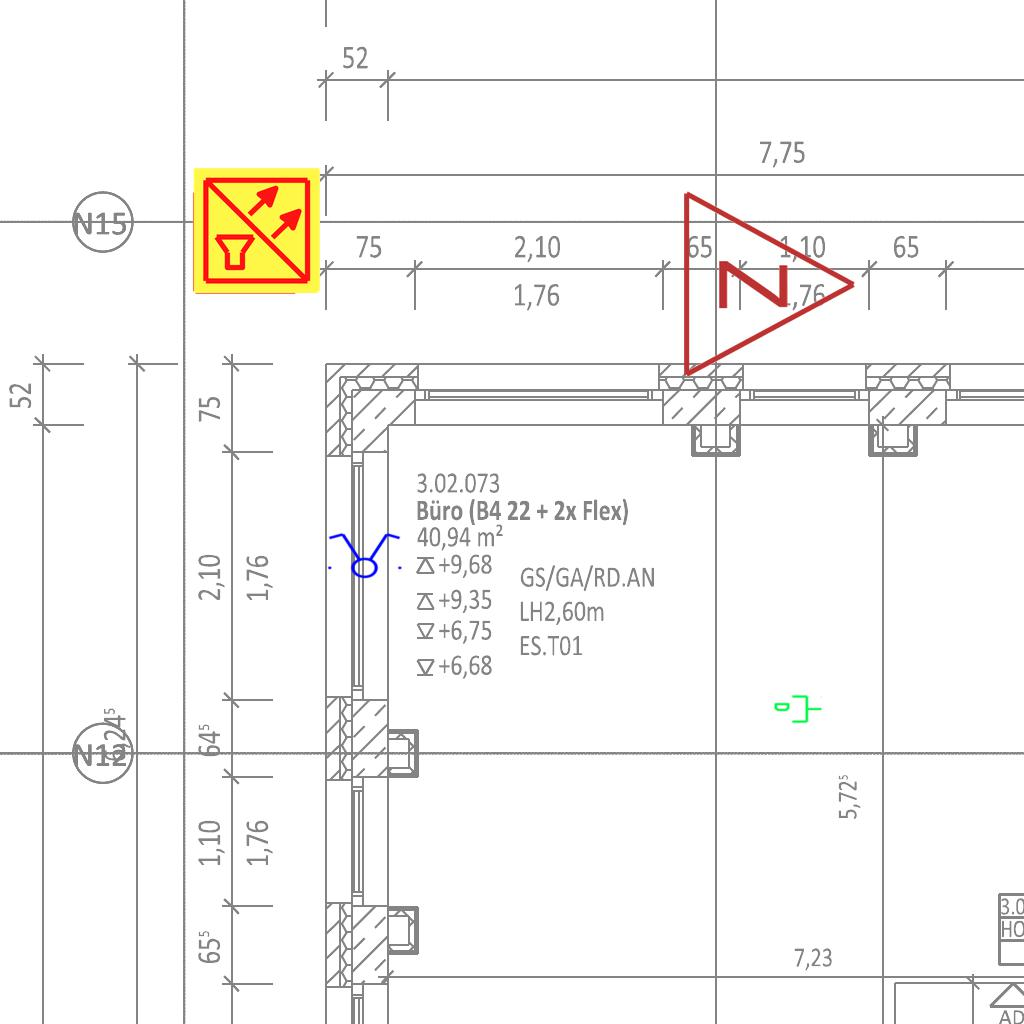Datenanschluss_einfach: (773, 693, 823, 727)
OKW_Multisensormelder_(Kombination_optischer_Rauch-Kahlenmonoxid_Waerme-Melder): (191, 165, 323, 297)
Serienschalter: (322, 531, 406, 579)
Zimmersignalleuchte: (669, 184, 869, 380)
